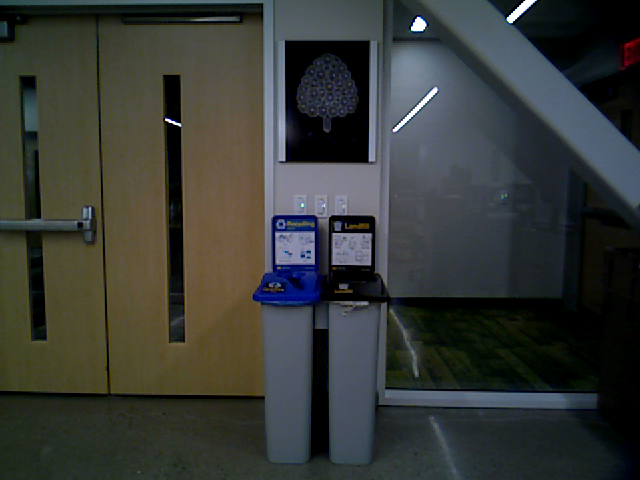painting1: (272, 40, 381, 167)
